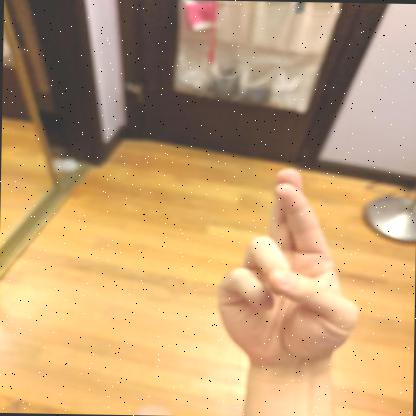R: (217, 167, 358, 363)
